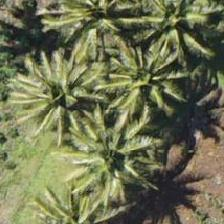coconut_tree: (14, 44, 104, 134), (100, 34, 190, 124), (125, 0, 215, 66), (51, 0, 141, 57)
